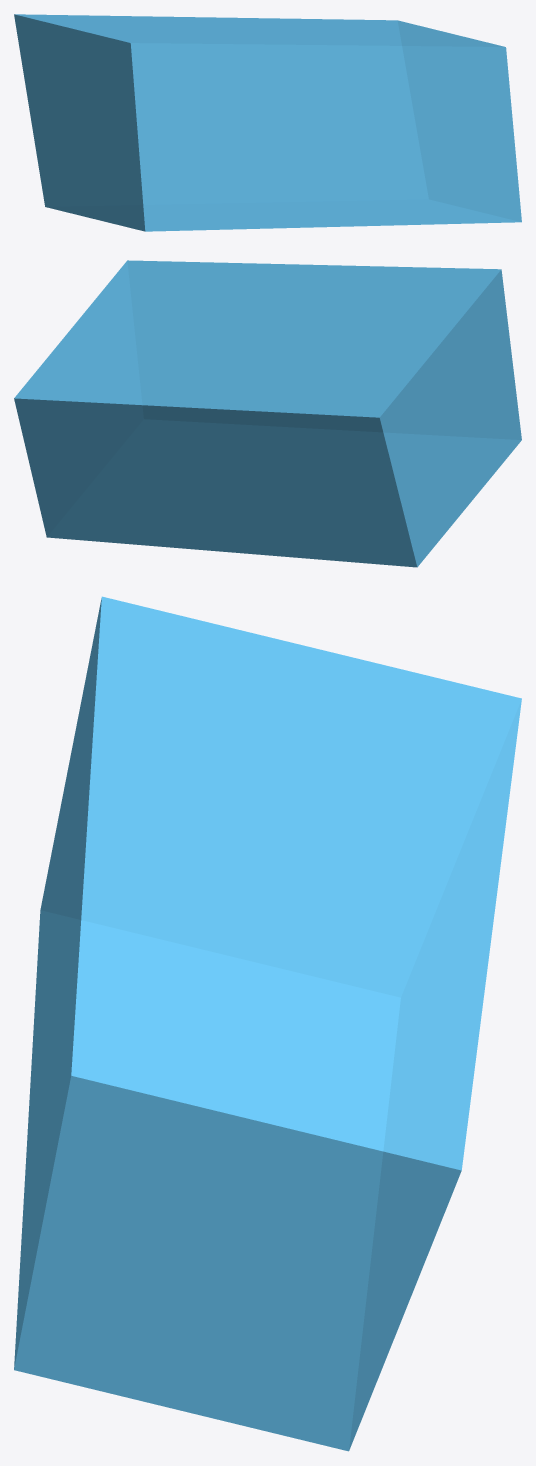
File: Event_420107950_HErechit_54.fbx
The picture shows the model from 3 angles, top to bottom: view 1: azimuth 30°, elevation 25°; view 2: azimuth 150°, elevation 25°; view 3: azimuth 270°, elevation 25°; orthographic projection. The views are drawn at different scales.
Visible parts, largest first — view 1: Model; view 2: Model; view 3: Model.
Boxes of the visible parts, <box> form: Model: <box>14,14,521,231</box>; Model: <box>14,260,521,567</box>; Model: <box>14,596,521,1451</box>.
Bounding box in the file's own units: 0.8464 × 0.6484 × 0.5603.
